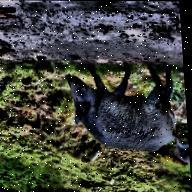boar: (57, 61, 190, 161), (175, 124, 190, 170)
